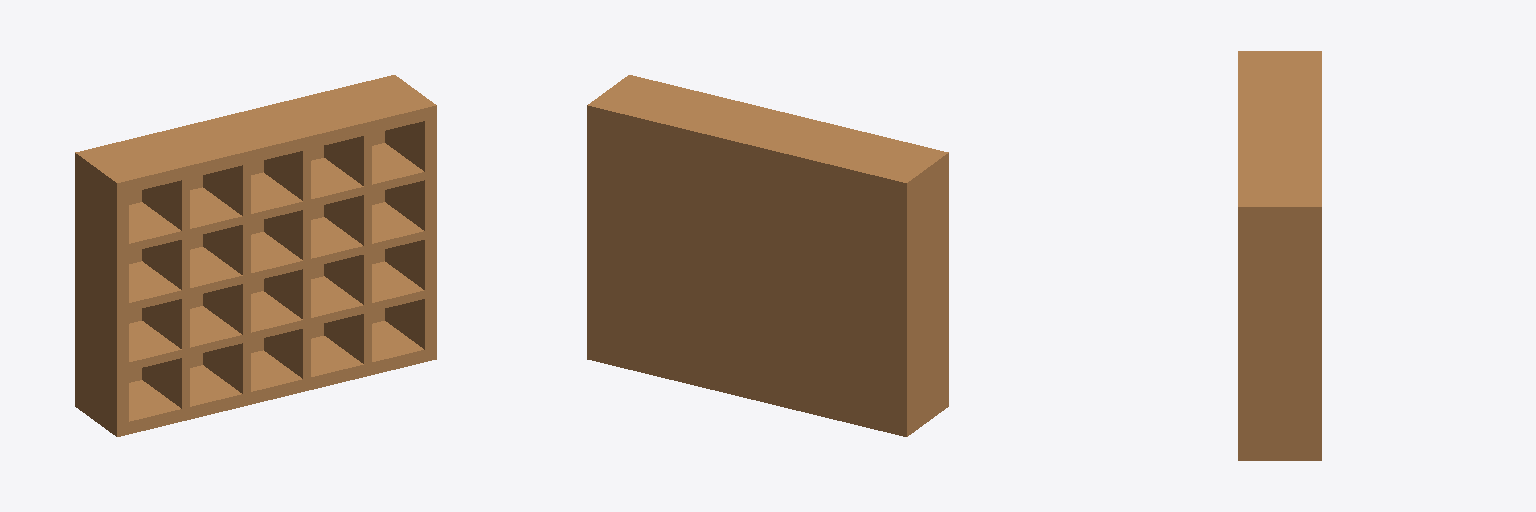
3 views of the same model, side by side, from view 1: azimuth 30°, elevation 25°; view 2: azimuth 150°, elevation 25°; view 3: azimuth 270°, elevation 25° (orthographic).
Visible parts, largest first — view 1: closet4; view 2: closet4; view 3: closet4.
Boxes of the visible parts, <box> form: closet4: <box>75,75,436,436</box>; closet4: <box>587,75,948,436</box>; closet4: <box>1238,51,1321,460</box>.
Bounding box in the file's own units: 7.9 × 6 × 1.8.
1 materials, 1 textured.